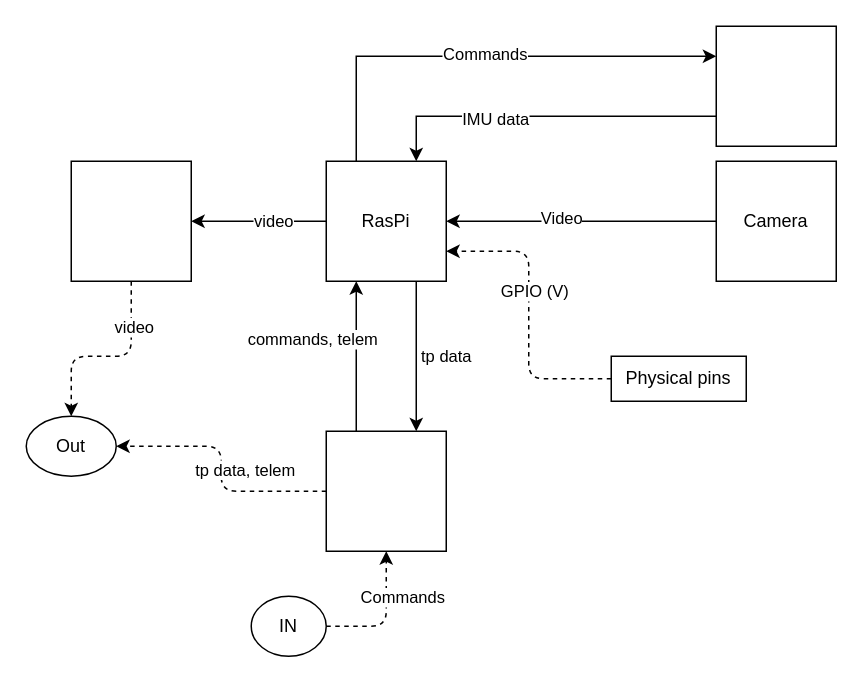
Image size: 863x683. Some labels were removed from this diagram. The shapes that lost their labels are listed below. From the top down, each one's centre as x and y in pixels, then its label:
pixel 775 85: Gimbal + IMU
pixel 130 220: Transmitter
pixel 385 490: FC
